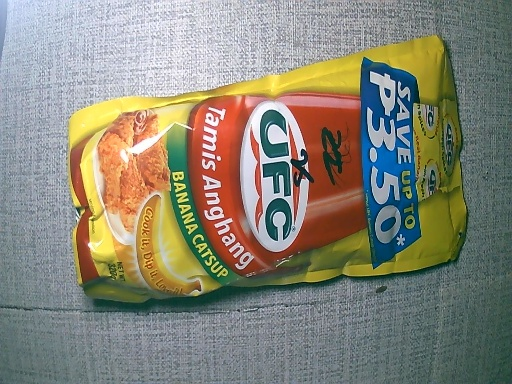plastic: (66, 31, 469, 305)
